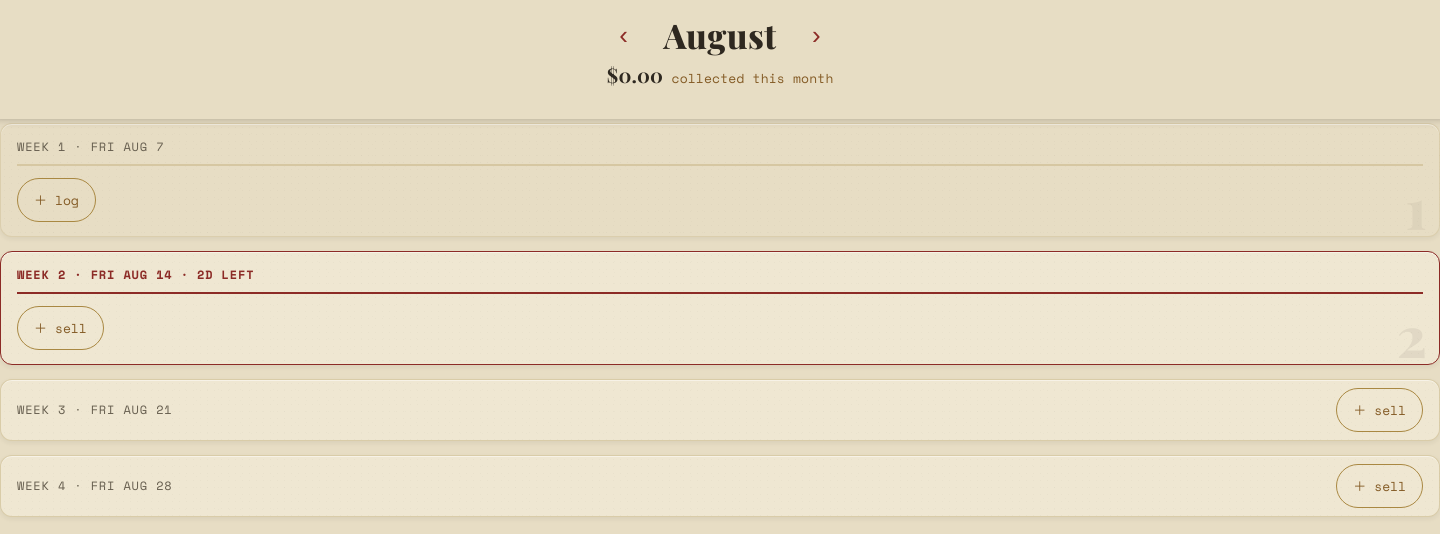
Test: OptionsTab board › does not fake a live week when browsing other months
Click the button named "Next month".
click(816, 36)  # box [794,14,838,58]
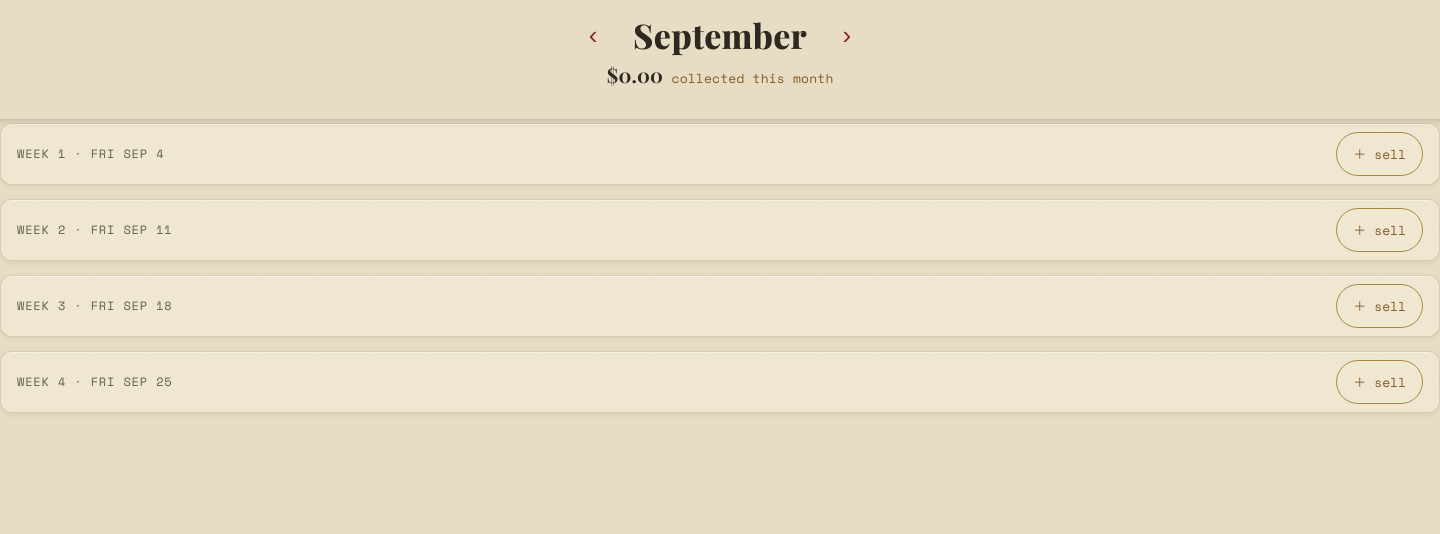
Result: the heading "September" is shown at [633,10,807,61]
Result: the text "left" is gone
Click the button named "Previous month".
click(593, 36)  # box [571,14,615,58]
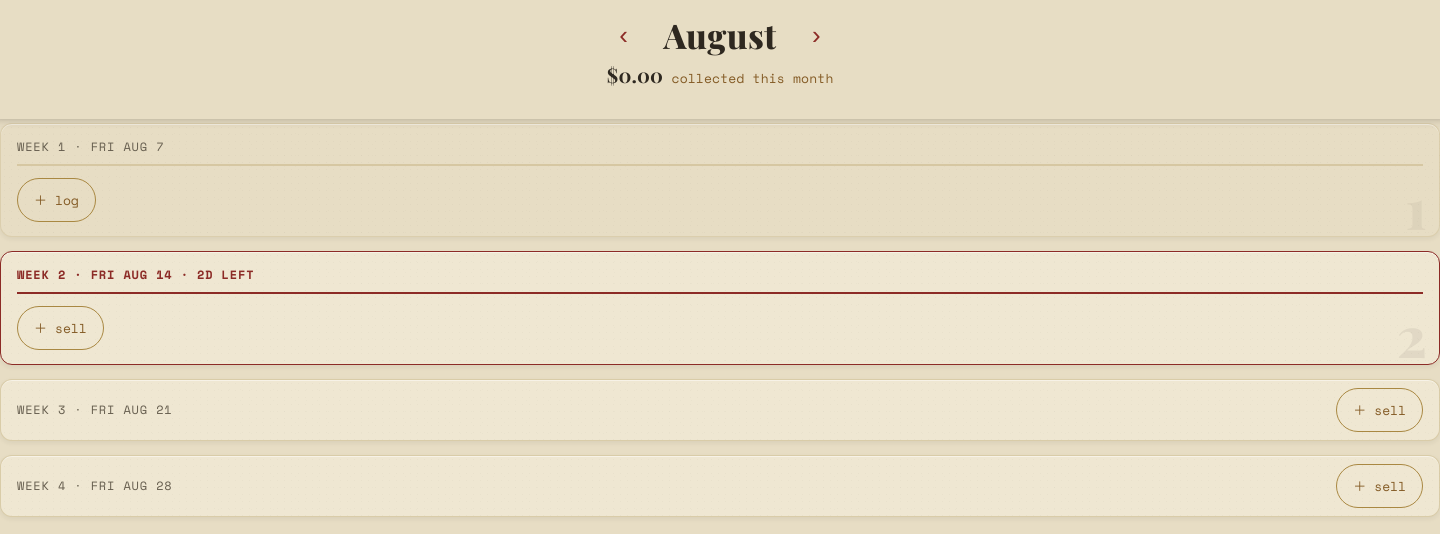
Result: the text "Week 2 · Fri Aug 14 · 2d left" is shown at [17,266,254,282]
